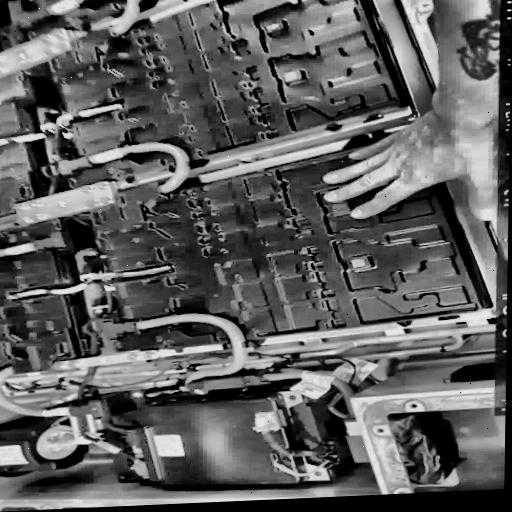high_volt_cable: (100, 309, 386, 443), (58, 138, 202, 205), (0, 364, 112, 422), (9, 0, 148, 46)
nut: (81, 197, 97, 207), (139, 351, 155, 360), (94, 180, 108, 190), (28, 199, 40, 208), (98, 196, 111, 204), (81, 185, 93, 193), (31, 211, 43, 219)
